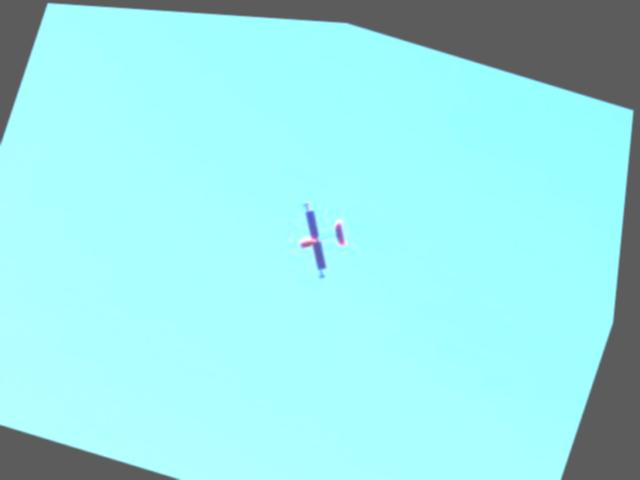uav: (273, 185, 372, 284)
